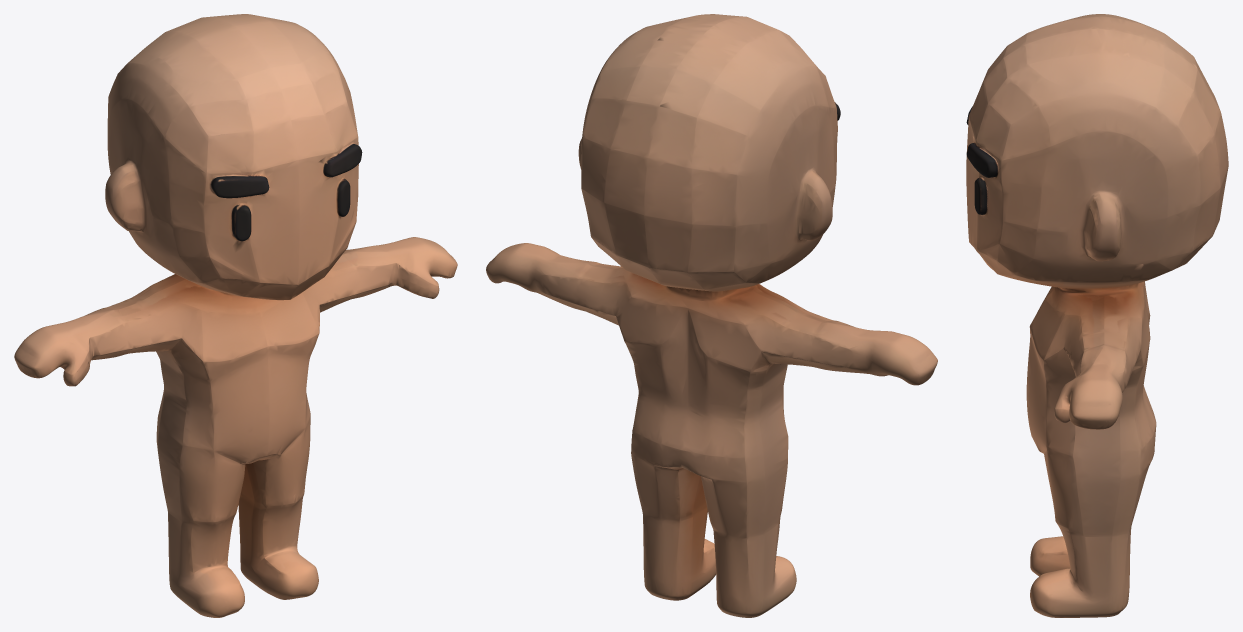
Rendered from cuerpo-D-h.glb.
3 views of the same model, side by side, from view 1: azimuth 30°, elevation 25°; view 2: azimuth 150°, elevation 25°; view 3: azimuth 270°, elevation 25° (orthographic).
Parts seen in each view (by area): view 1: node_0; view 2: node_0; view 3: node_0.
Part boxes in pixels (<box>): node_0: <box>14,14,457,617</box>; node_0: <box>486,14,937,617</box>; node_0: <box>966,14,1228,617</box>.
Size of the model in its own units: 0.9368 by 1.16 by 0.4921.
Materials: 1 (1 with a texture image).
